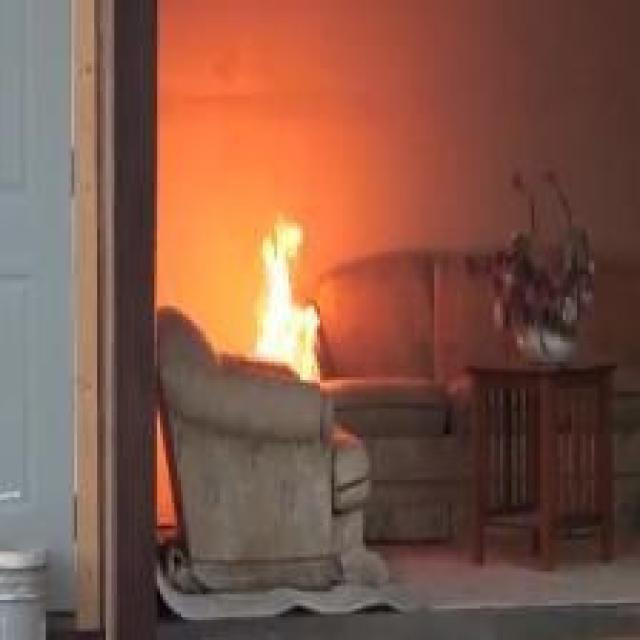fire: (241, 215, 313, 372)
